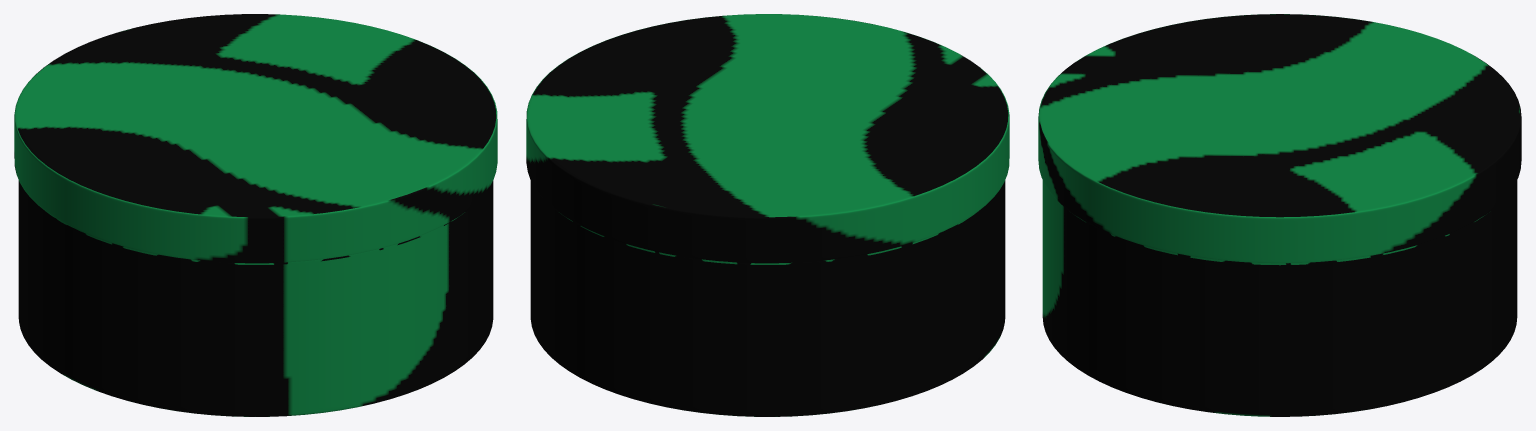
The picture shows the model from 3 angles, left to right: view 1: azimuth 30°, elevation 25°; view 2: azimuth 150°, elevation 25°; view 3: azimuth 270°, elevation 25°; orthographic projection.
Visible parts, largest first — view 1: 贴图, 盒身; view 2: 贴图, 盒身; view 3: 贴图, 盒身.
Boxes of the visible parts, left/top/right/bottom form: 贴图: left=14, top=14, right=497, bottom=416; 盒身: left=49, top=212, right=464, bottom=416; 贴图: left=526, top=14, right=1009, bottom=416; 盒身: left=559, top=212, right=974, bottom=416; 贴图: left=1038, top=14, right=1521, bottom=416; 盒身: left=1075, top=215, right=1484, bottom=416.
Bounding box in the file's own units: 251 × 116 × 251.
3 materials, 3 textured.
